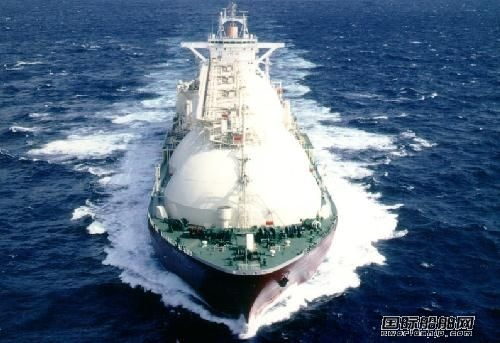Cargoship: (137, 6, 338, 332)
